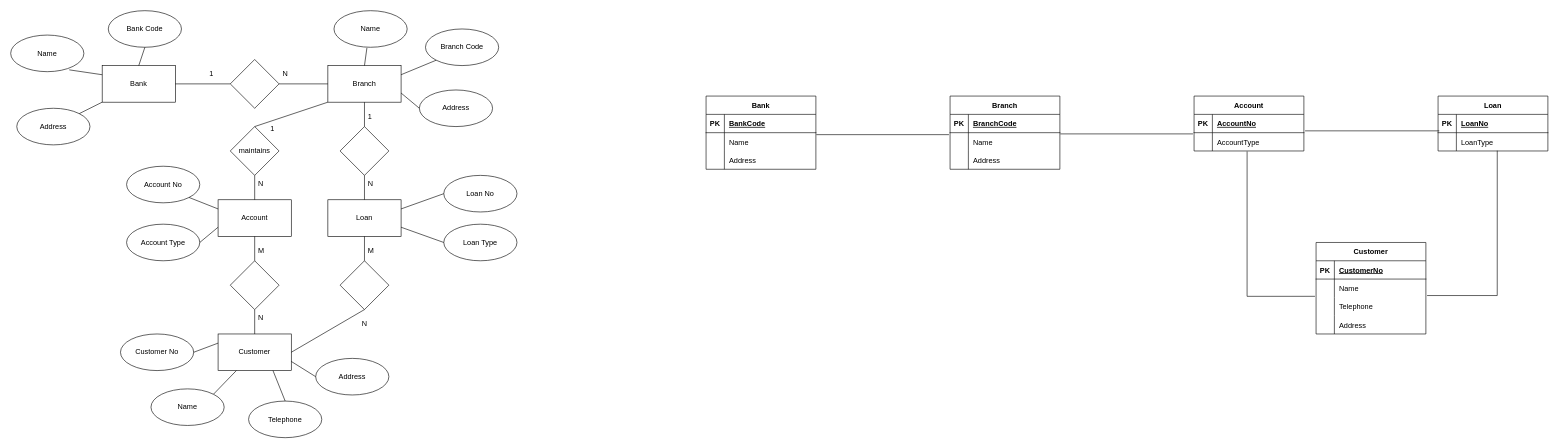
Some shapes in this 1559 by 448 pixel diagram are drawn without their labels. Each missing label, with the centre of its shape:
"avail" belongs at point 364,285.
"has" belongs at point 254,83.
"holds" belongs at point 254,285.
"offers" belongs at point 364,150.
